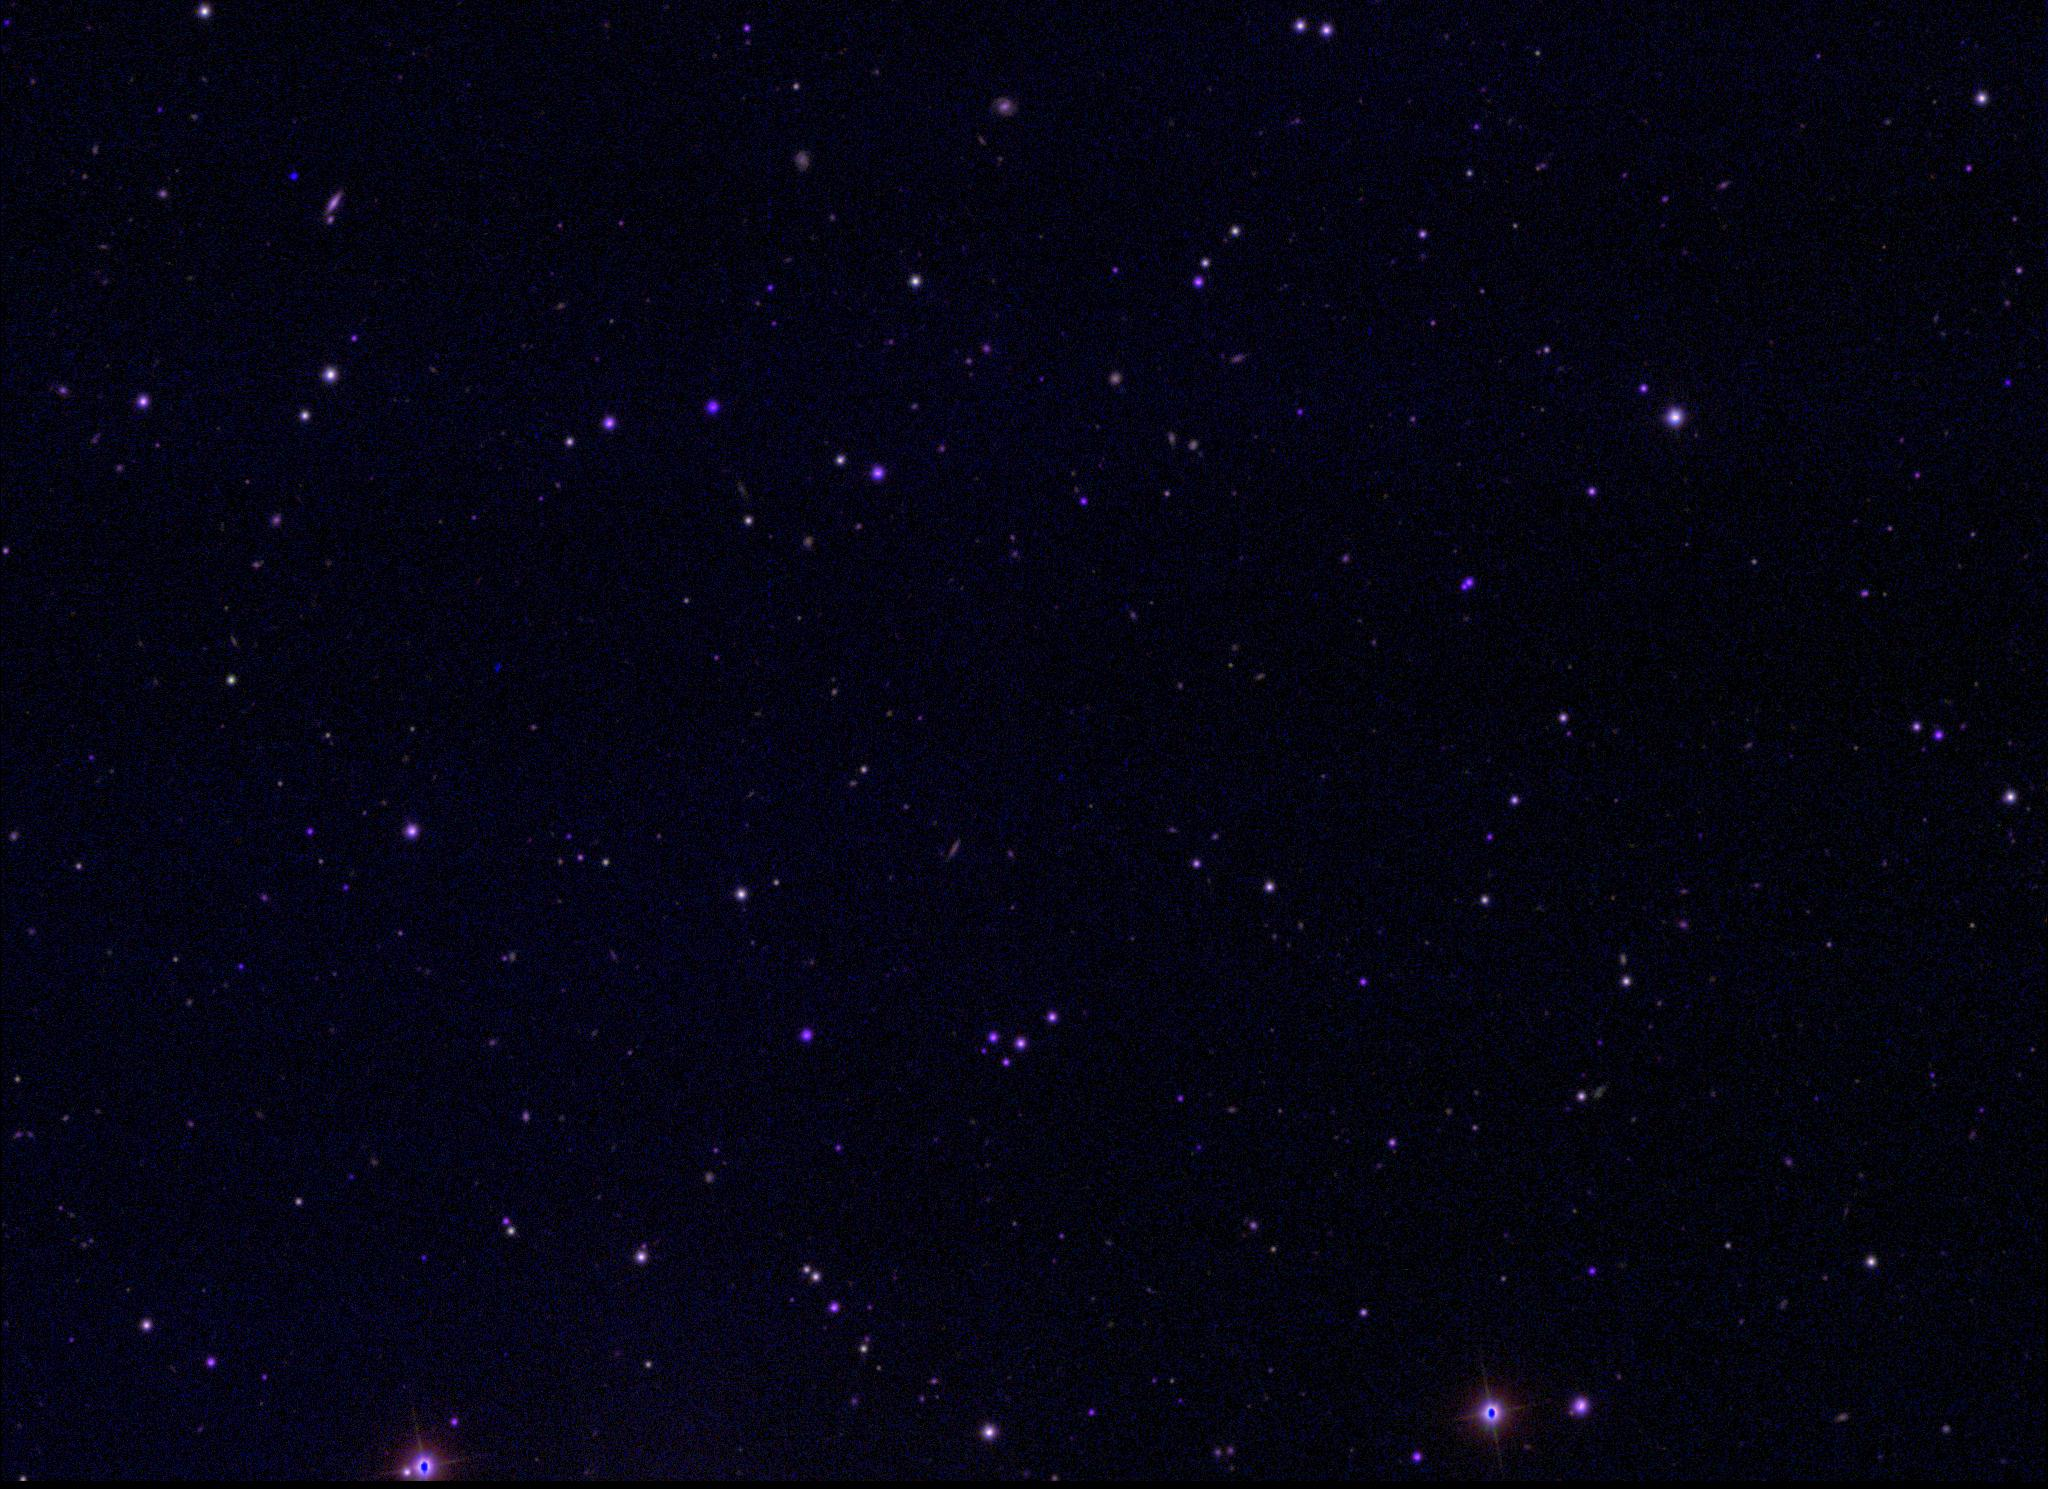L: (285, 167, 299, 181)
